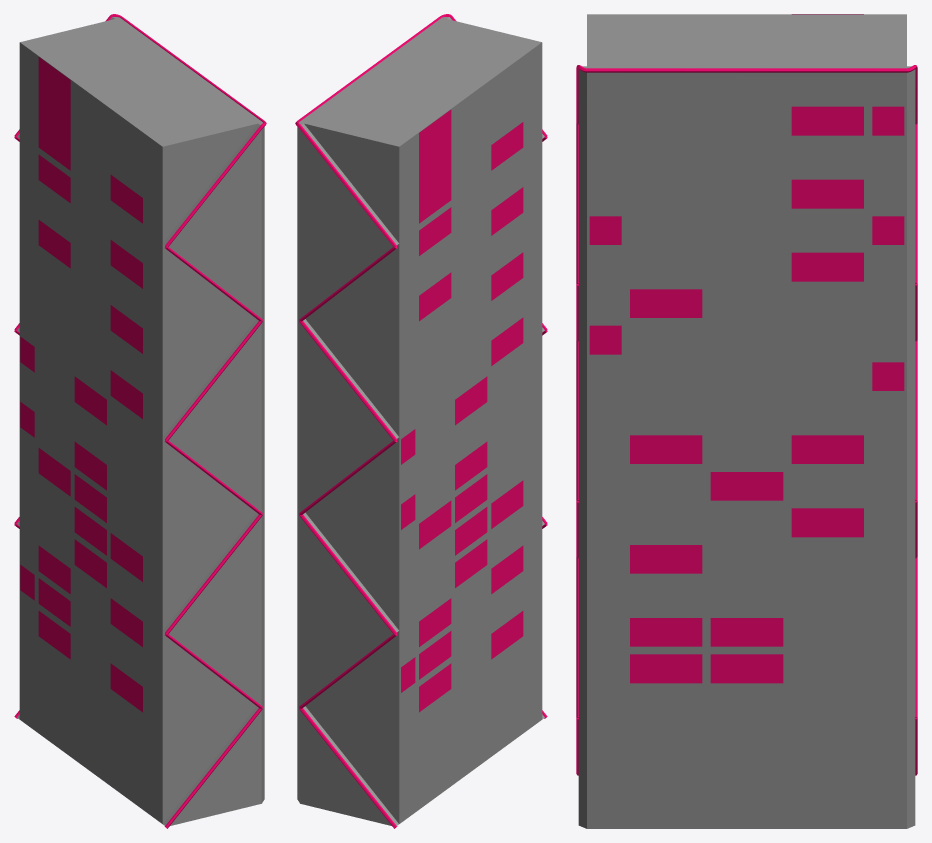
File: obj_building001.FBX
3 views of the same model, side by side, from view 1: azimuth 30°, elevation 25°; view 2: azimuth 150°, elevation 25°; view 3: azimuth 270°, elevation 25° (orthographic). The views are drawn at different scales.
Parts seen in each view (by area): view 1: building001, Object014, Object; view 2: building001, Object014, Object; view 3: building001, Object014, Object.
Boxes of the visible parts, x1,y1,x2,y2 form: building001: (17,17,264,825); Object014: (20,57,142,712); Object: (14,14,266,828); building001: (297,17,544,825); Object014: (401,109,523,712); Object: (295,14,547,828); building001: (578,14,915,828); Object014: (589,14,904,683); Object: (576,65,917,775).
Bounding box in the file's own units: 1614 × 10048 × 4071.
